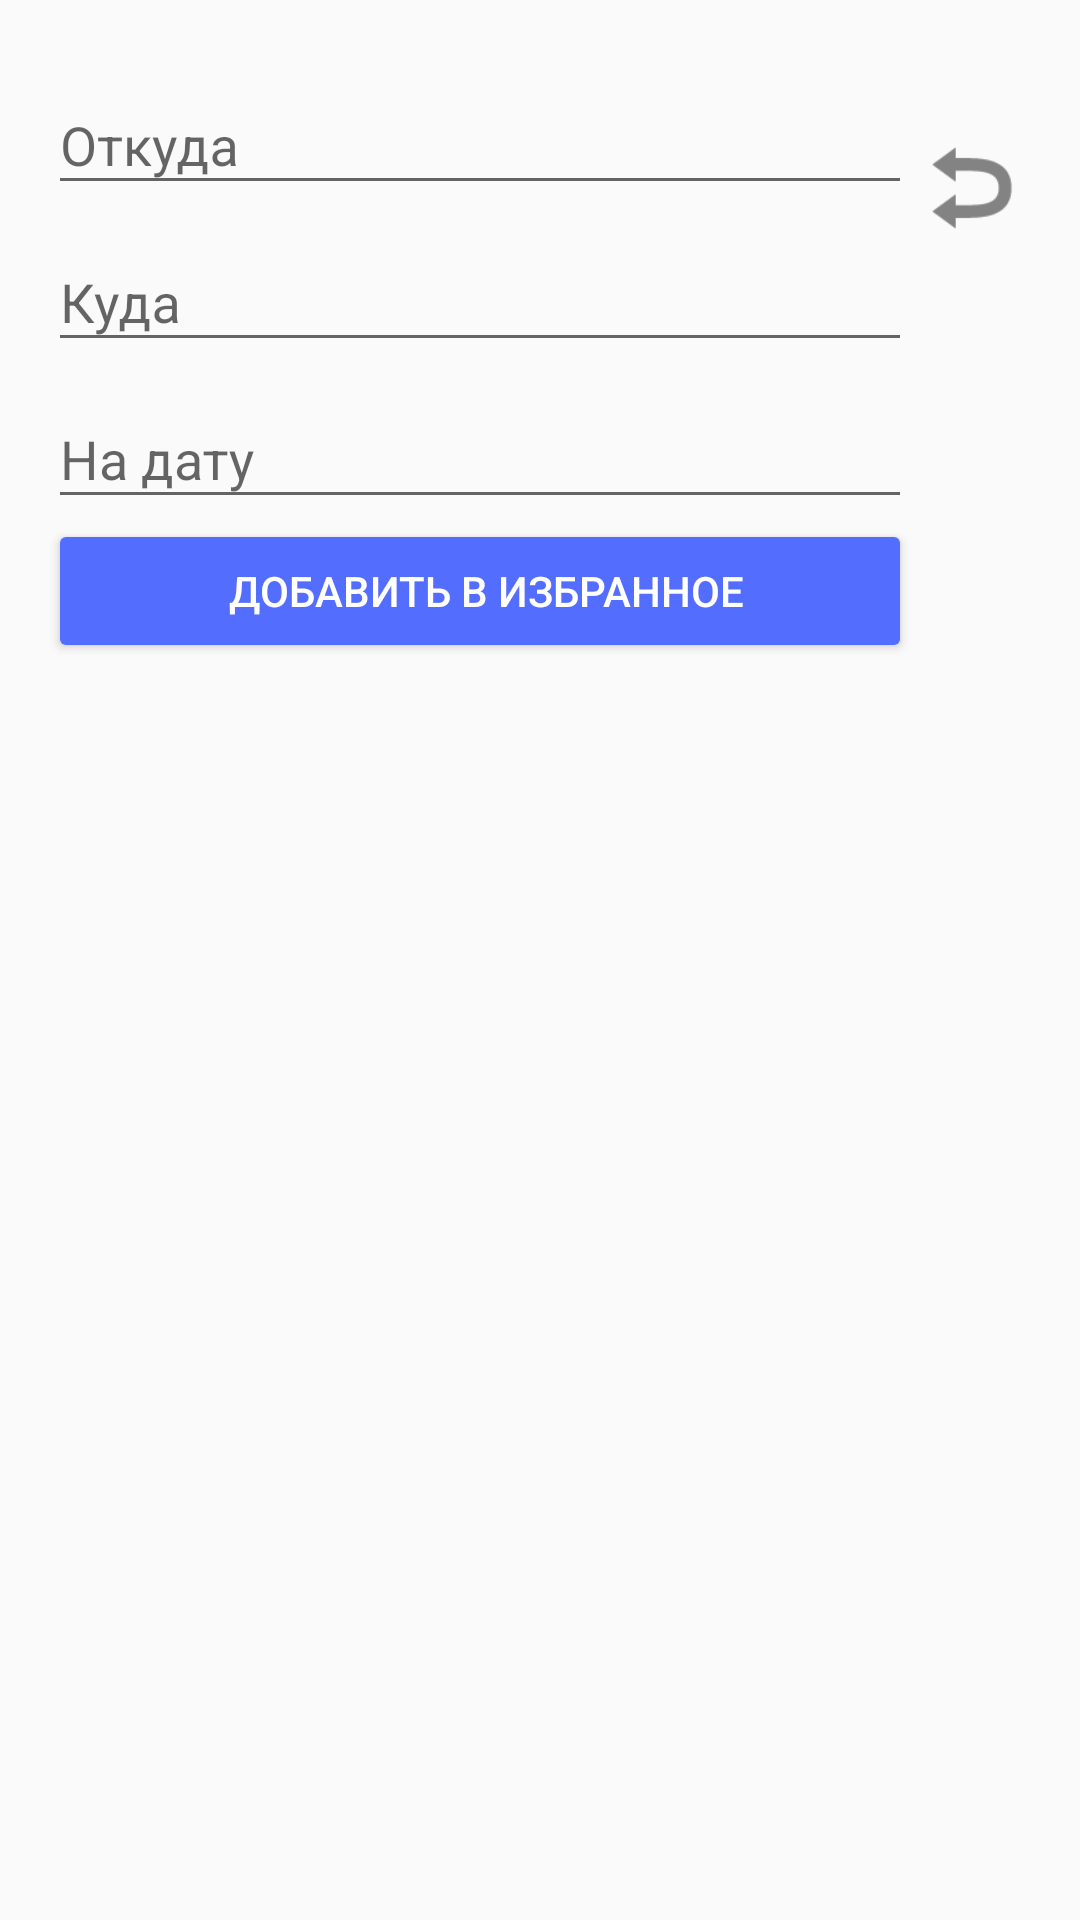

Screen size 1080x1920. Icon name, then its center in pixels as (x=x, y=y):
undo: (x=972, y=188)
